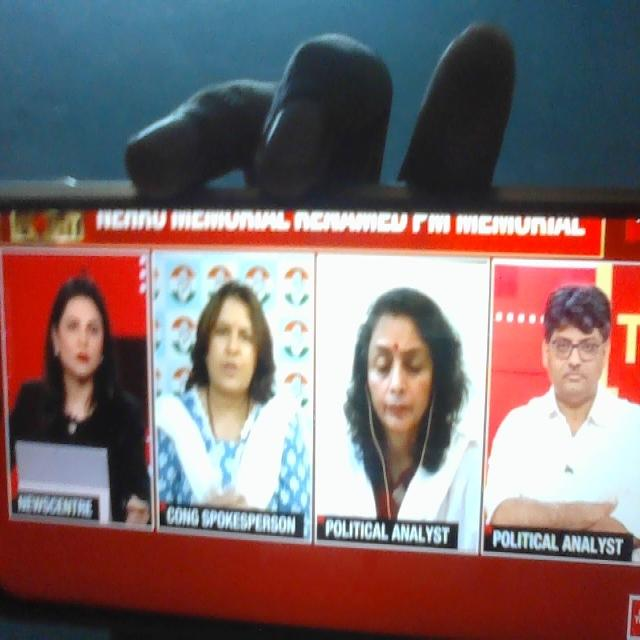fake: (347, 274, 451, 470)
